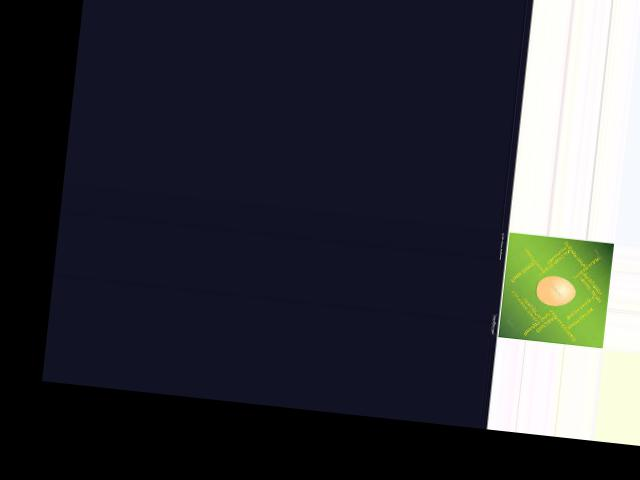egg: (535, 273, 576, 307)
